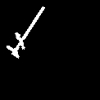double_crochet: (7, 7, 44, 57)
